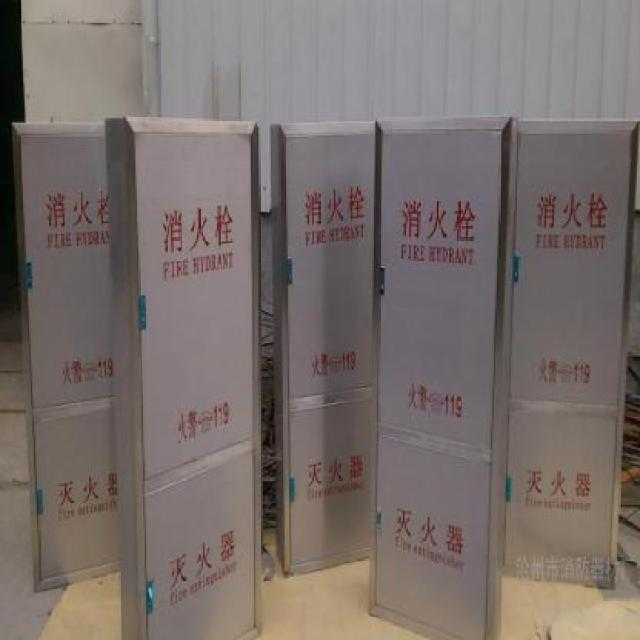firehydrant: (103, 111, 265, 639), (364, 109, 514, 640), (501, 110, 640, 592), (9, 117, 121, 598), (267, 114, 378, 582)
